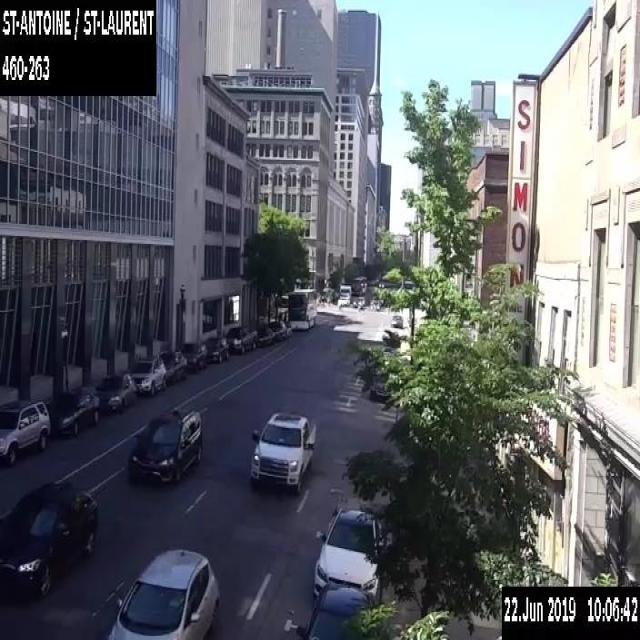bus: (288, 288, 316, 329)
pedestrian: (359, 298, 363, 309), (370, 300, 374, 311), (373, 301, 377, 312), (355, 294, 358, 307)
vehicle: (0, 479, 100, 597), (104, 546, 220, 639), (313, 503, 383, 602), (122, 406, 204, 486), (248, 409, 316, 493), (295, 580, 379, 639), (0, 398, 50, 462), (48, 385, 100, 436), (96, 372, 136, 411), (129, 354, 166, 396), (222, 325, 257, 352), (179, 341, 208, 372), (158, 349, 186, 381), (205, 336, 229, 362), (369, 382, 391, 403), (268, 319, 287, 340), (253, 325, 274, 344), (339, 284, 351, 298), (390, 314, 402, 326), (338, 296, 350, 304), (371, 300, 380, 309), (352, 298, 361, 306), (357, 296, 365, 304)
